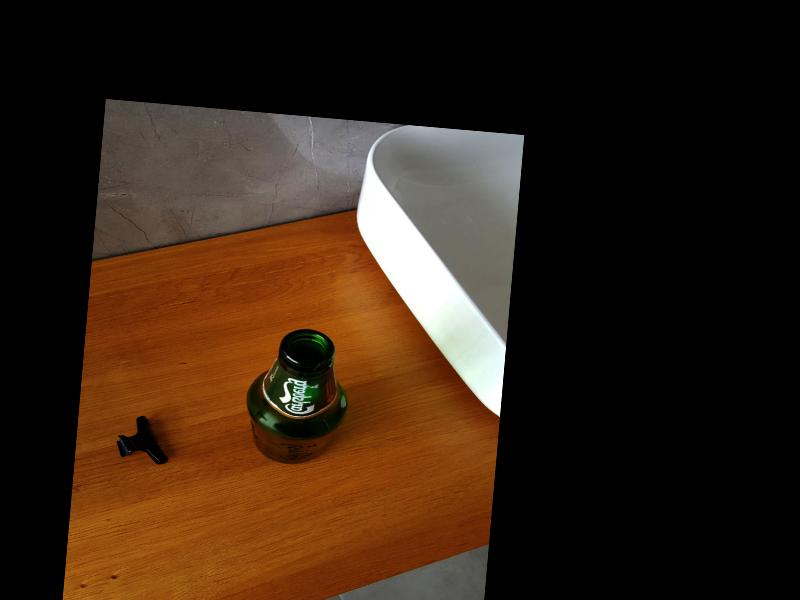Beer: (241, 325, 354, 468)
